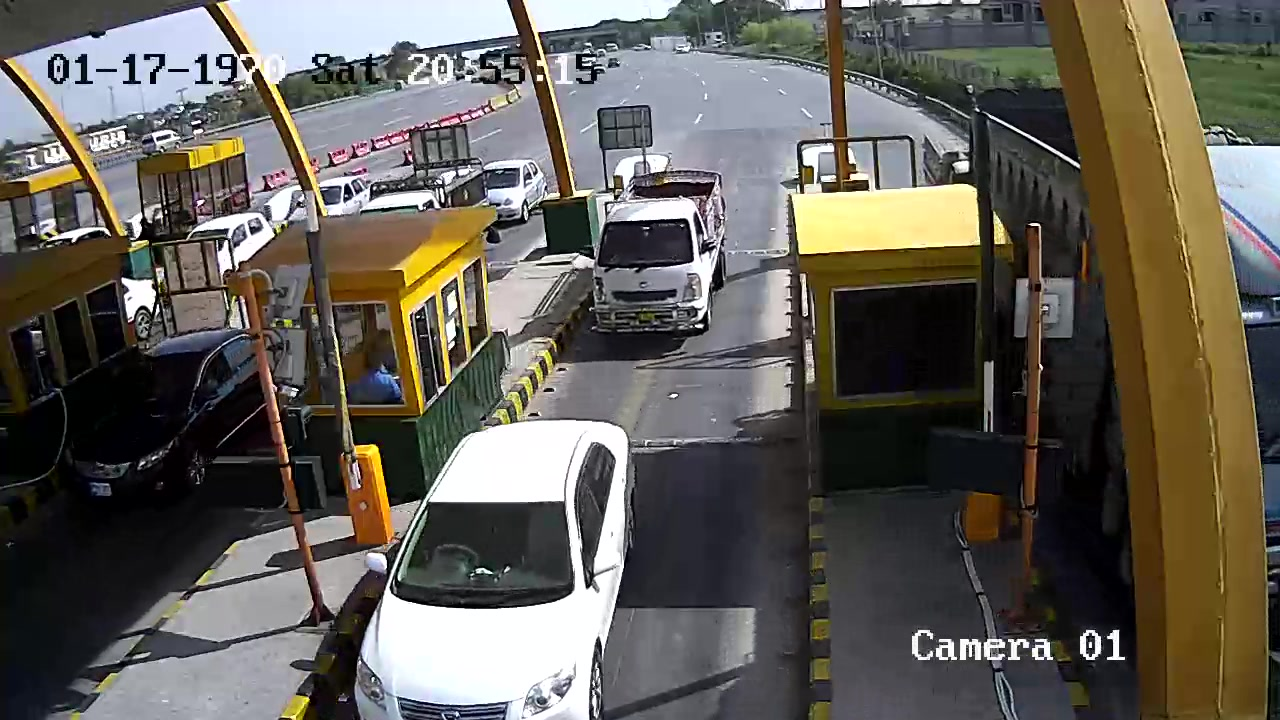F2: (588, 162, 737, 346)
